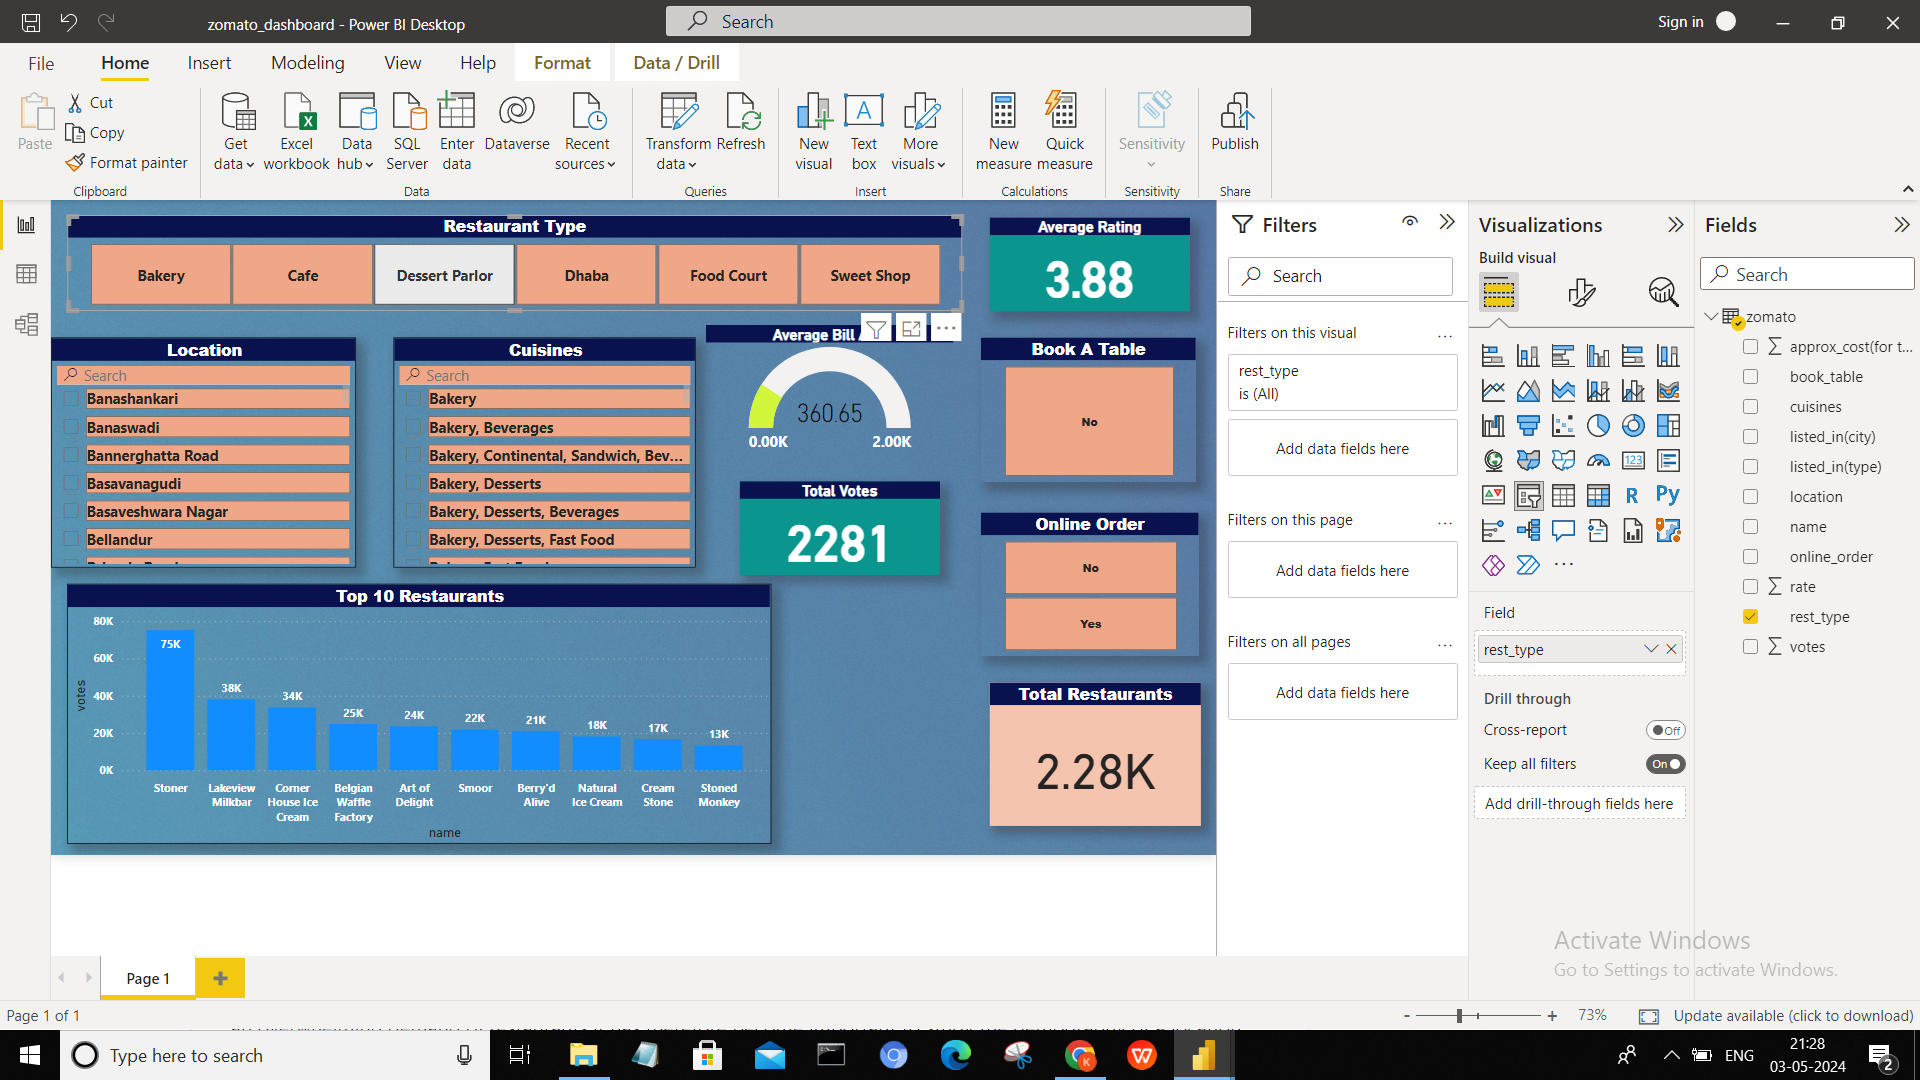

What the dashboard file says about the page in this screenshot:
{"tool":"powerbi","page":{"name":"Page 1","canvas":[1280,720],"ordinal":0},"visuals":[{"type":"slicer","title":"Restaurant Type","fields":{"Values":["zomato.rest_type"]},"box":[17.9,16.5,983.3,105.8],"z":0},{"type":"slicer","title":"Book A Table","fields":{"Values":["zomato.book_table"]},"box":[1021.8,151.1,236.2,159.3],"z":1},{"type":"slicer","title":"Online Order","fields":{"Values":["zomato.online_order"]},"box":[1021.8,343.3,239,157.9],"z":2},{"type":"slicer","title":"Location","fields":{"Values":["zomato.location"]},"box":[0,151.1,335.1,252.7],"z":3},{"type":"slicer","title":"Cuisines","fields":{"Values":["zomato.cuisines"]},"box":[376.3,151.1,332.4,252.7],"z":4},{"type":"gauge","title":"Average Bill Amt","fields":{"Y":["Avg(zomato.approx_cost(for two people))"]},"box":[719.7,137.3,271.9,149.7],"z":5},{"type":"columnChart","title":"Top 10 Restaurants","fields":{"Category":["zomato.name"],"Y":["Sum(zomato.votes)"]},"box":[17.9,421.6,773.2,285.7],"z":6},{"type":"card","title":"Total Votes","fields":{"Values":["CountNonNull(zomato.votes)"]},"box":[756.7,309,219.7,103],"z":7},{"type":"card","title":"Average Rating","fields":{"Values":["Avg(zomato.rate)"]},"box":[1031.4,19.2,219.7,103],"z":8},{"type":"card","title":"Total Restaurants","fields":{"Values":["CountNonNull(zomato.name)"]},"box":[1031.4,530.1,232.1,157.9],"z":9}]}

Visuals, with their boxes on the page's 1280x720 design canvas (x1, y1, x2, y2). These are canvas units, not pixel positions in the 1920x1080 screenshot, which may show the page scaled, cropped or inside an application window:
"Restaurant Type" slicer: box(18, 16, 1001, 122)
"Book A Table" slicer: box(1022, 151, 1258, 310)
"Online Order" slicer: box(1022, 343, 1261, 501)
"Location" slicer: box(0, 151, 335, 404)
"Cuisines" slicer: box(376, 151, 709, 404)
"Average Bill Amt" gauge: box(720, 137, 992, 287)
"Top 10 Restaurants" columnChart: box(18, 422, 791, 707)
"Total Votes" card: box(757, 309, 976, 412)
"Average Rating" card: box(1031, 19, 1251, 122)
"Total Restaurants" card: box(1031, 530, 1264, 688)
